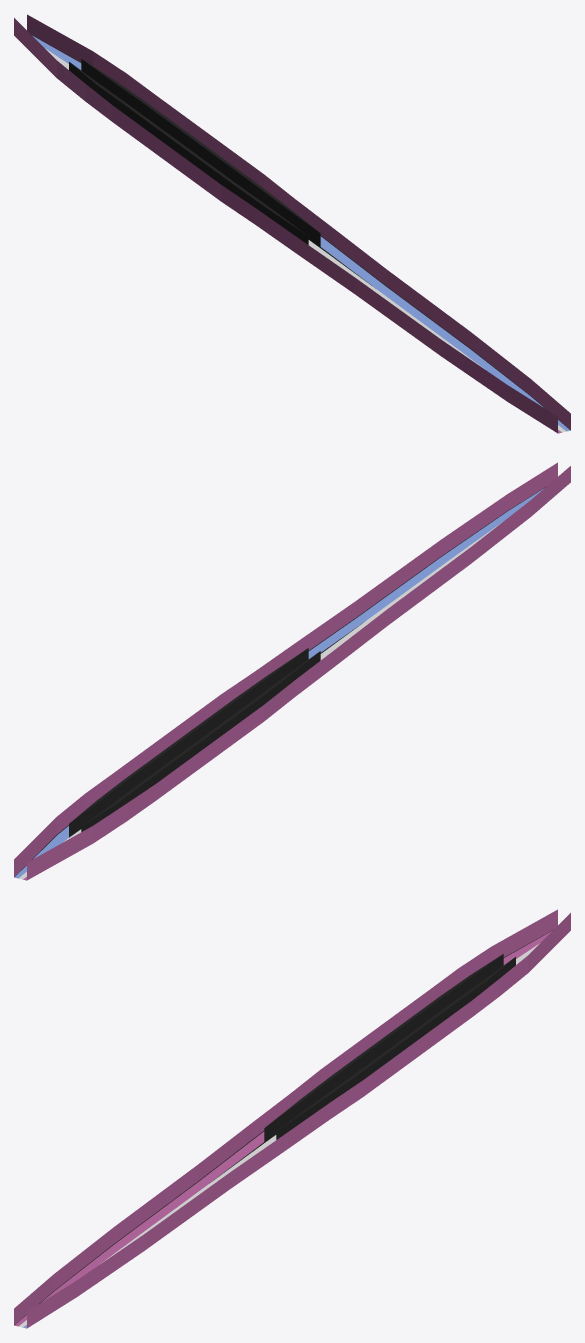
The model's file is Bridge 3.fbx.
3 views of the same model, one above another, from view 1: azimuth 30°, elevation 25°; view 2: azimuth 150°, elevation 25°; view 3: azimuth 330°, elevation 25° (orthographic).
Visible parts, largest first — view 1: Plane.002, Plane.001, Plane; view 2: Plane.002, Plane.001, Plane; view 3: Plane.002, Plane.001, Plane.
Part boxes in pixels (box(x1,y1,x2,y2)): Plane.002: box(14, 14, 570, 433); Plane.001: box(69, 59, 320, 247); Plane: box(32, 35, 570, 433); Plane.002: box(14, 462, 570, 880); Plane.001: box(69, 648, 320, 837); Plane: box(14, 487, 545, 880); Plane.002: box(14, 909, 570, 1328); Plane.001: box(264, 954, 515, 1142); Plane: box(14, 930, 552, 1328).
Bounding box in the file's own units: 714 × 285 × 15701.
